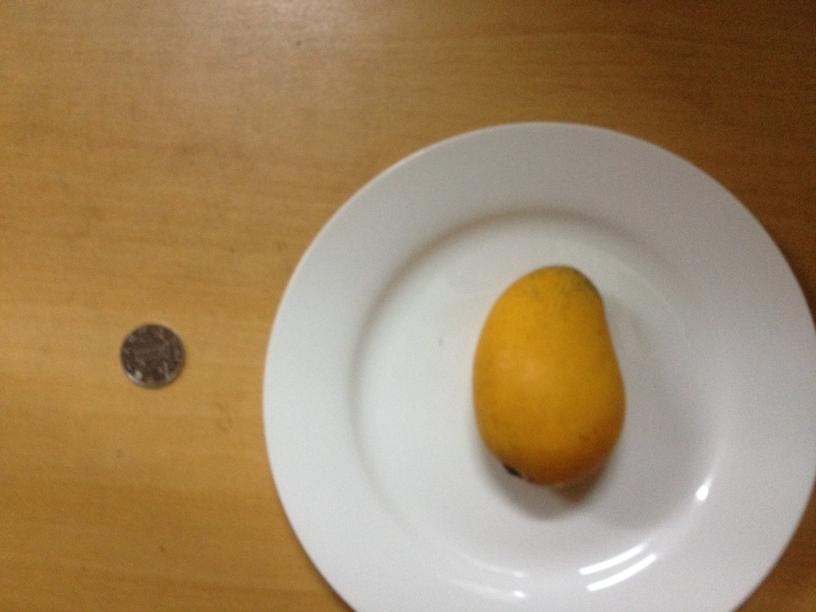coin: (117, 319, 185, 388)
mango: (473, 267, 625, 492)
